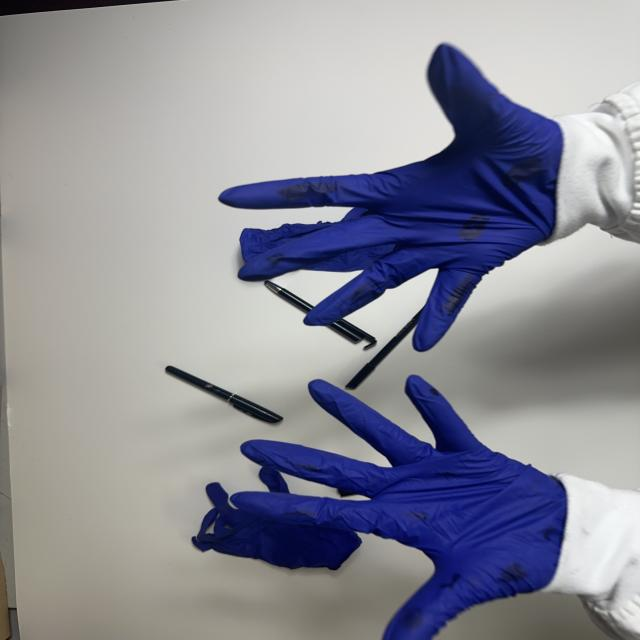gloves_contaminated: (219, 44, 587, 350), (232, 375, 568, 640)
